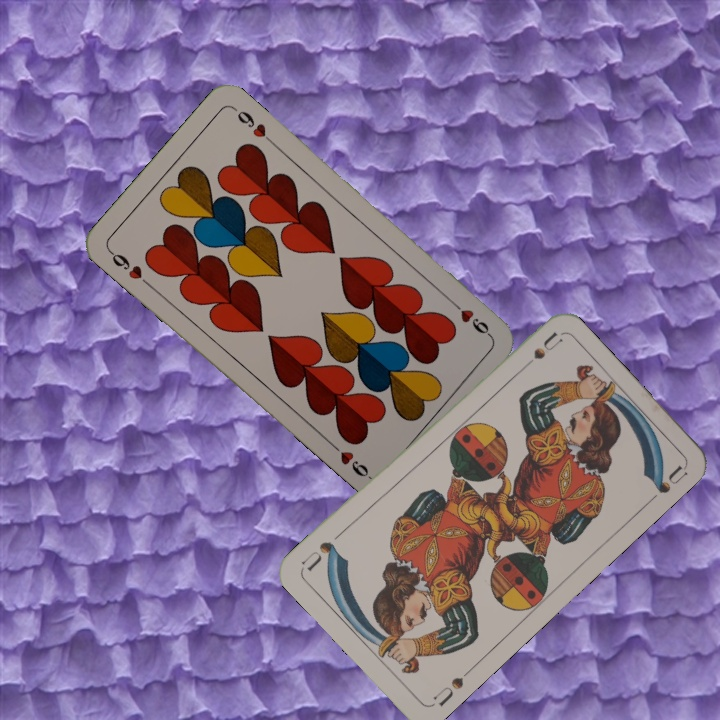H9: (105, 246, 153, 290), (446, 296, 494, 340)
SU: (514, 328, 564, 374), (428, 663, 475, 709)
